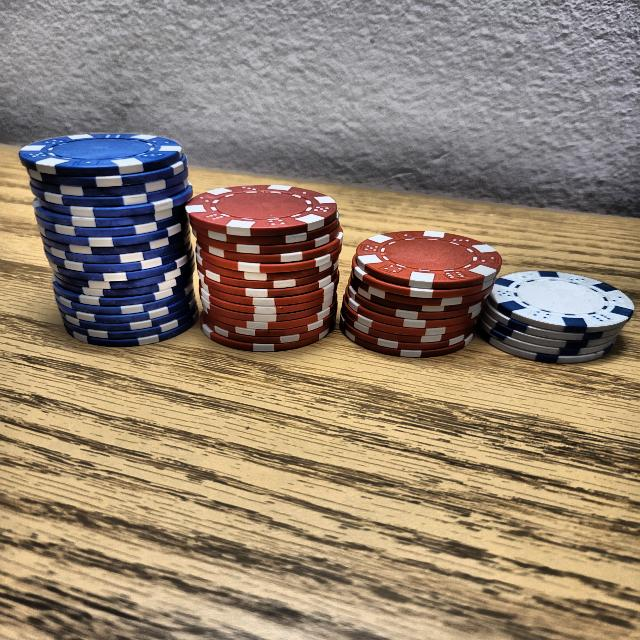Chip: (23, 115, 208, 366), (187, 157, 341, 370), (342, 209, 505, 370), (478, 241, 632, 369)
